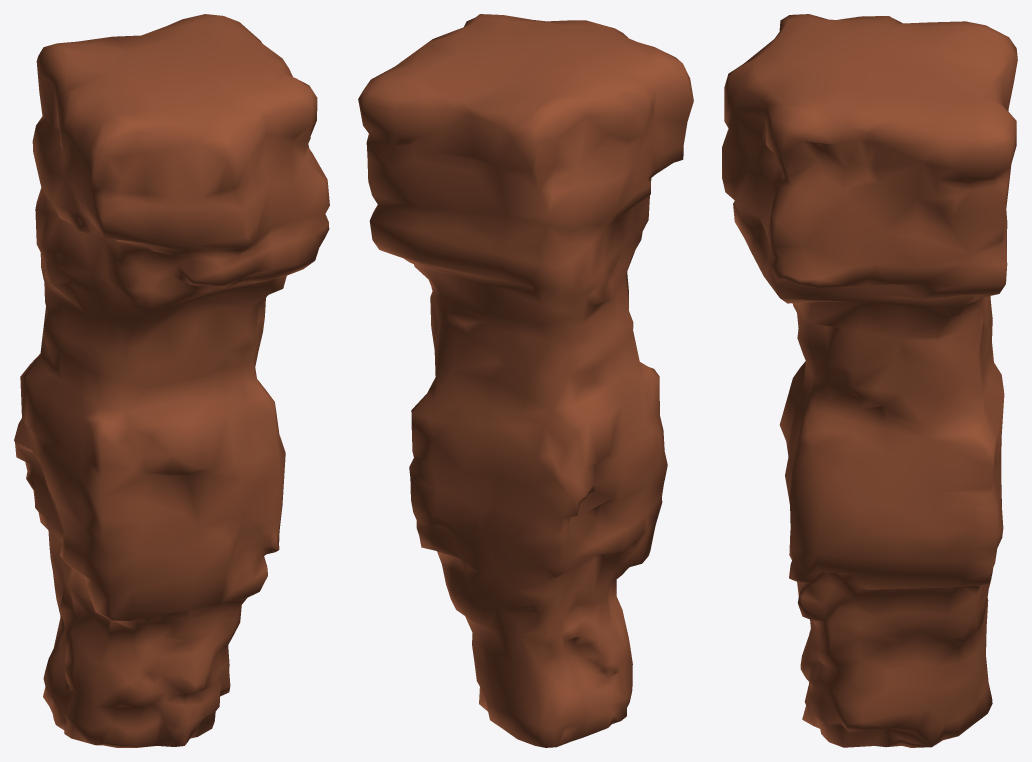
Rendered from MSH_Rocks_Cliff_24.FBX.
The picture shows the model from 3 angles, left to right: view 1: azimuth 30°, elevation 25°; view 2: azimuth 150°, elevation 25°; view 3: azimuth 270°, elevation 25°; orthographic projection. The views are drawn at different scales.
Parts seen in each view (by area): view 1: MESH_LOD0; view 2: MESH_LOD0; view 3: MESH_LOD0.
Part boxes in pixels (left/top/right/bottom): MESH_LOD0: left=14, top=14, right=329, bottom=747; MESH_LOD0: left=358, top=14, right=693, bottom=747; MESH_LOD0: left=722, top=14, right=1017, bottom=747.
Size of what is drawn, in the model's own units: 220 by 562 by 219.
